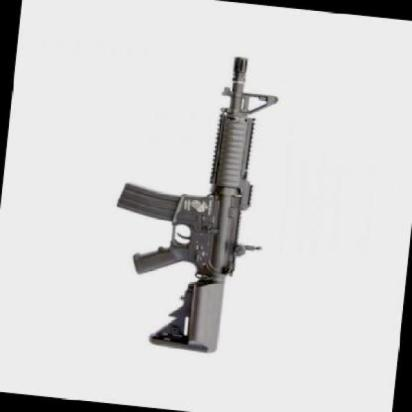Gun: (96, 42, 296, 362)
